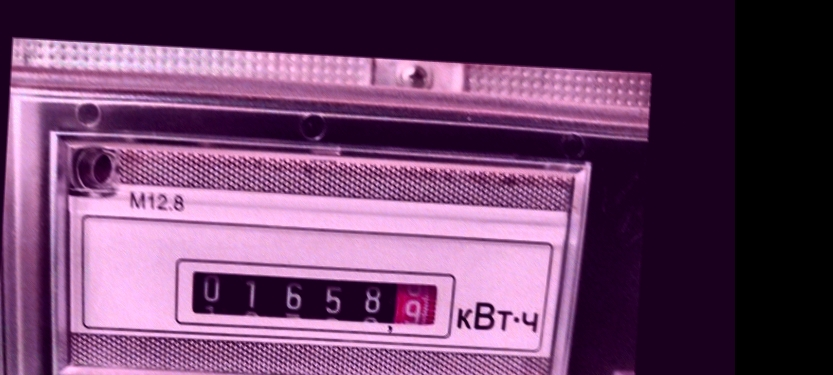0: (199, 268, 222, 301)
1: (243, 275, 257, 306)
5: (323, 280, 343, 313)
6: (283, 277, 304, 309)
8: (362, 280, 382, 313)
9: (401, 295, 421, 322)
screen: (165, 247, 460, 342)
